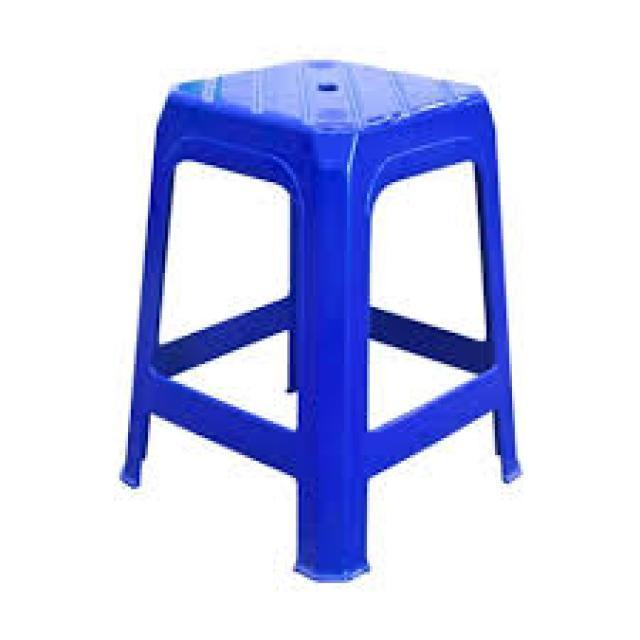chair: (121, 51, 524, 584)
